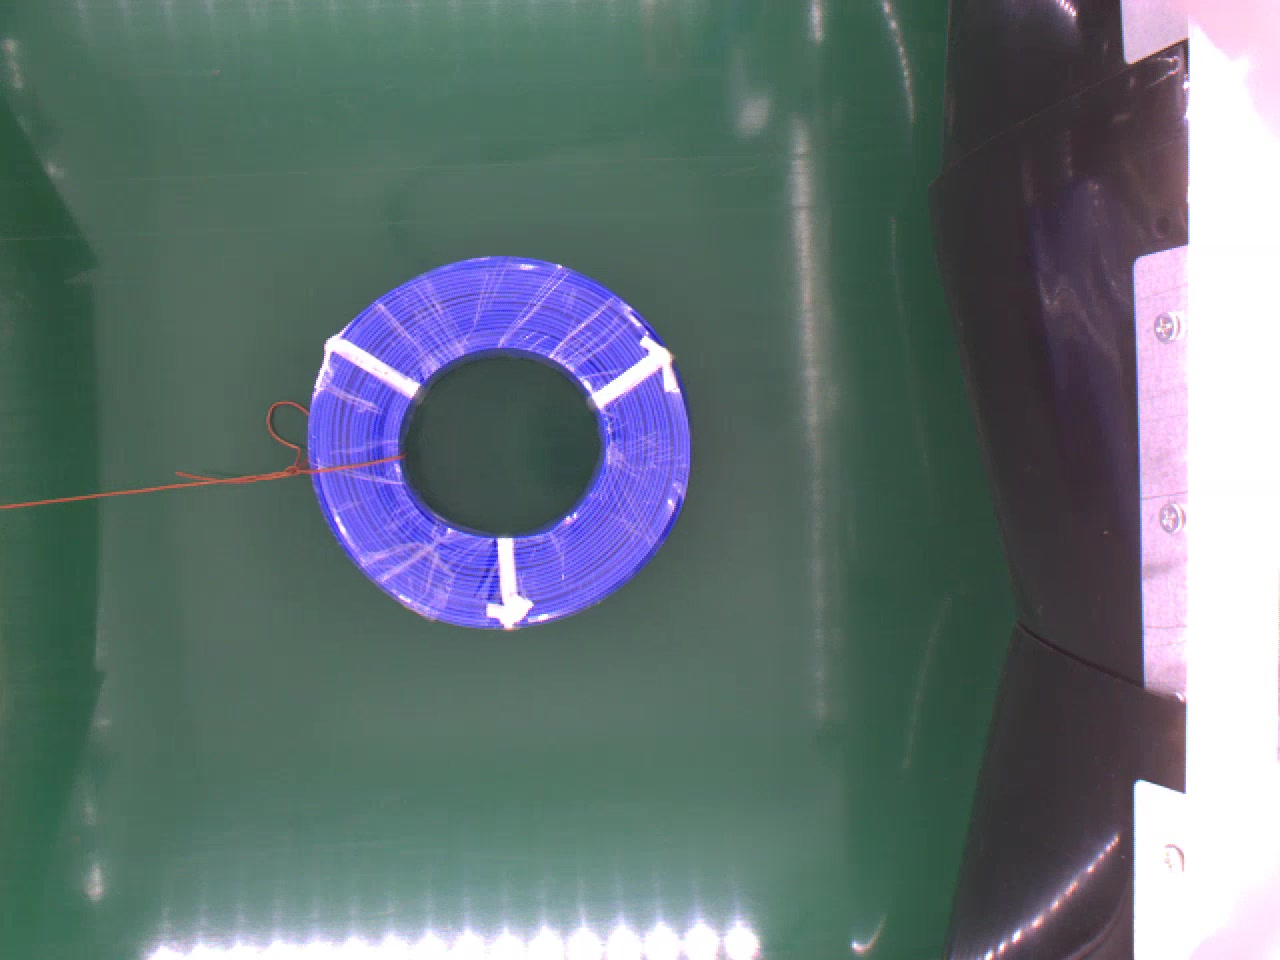blue: (302, 244, 698, 626)
